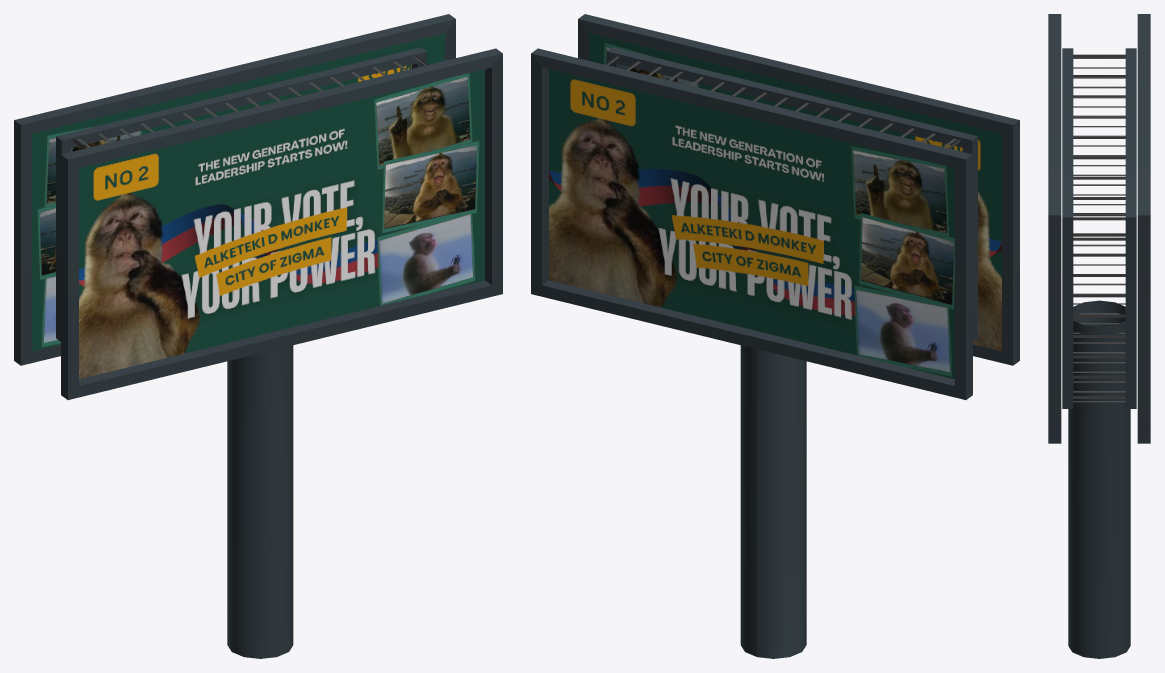
Rendered from Paslon2b.fbx.
3 views of the same model, side by side, from view 1: azimuth 30°, elevation 25°; view 2: azimuth 150°, elevation 25°; view 3: azimuth 270°, elevation 25° (orthographic). The views are drawn at different scales.
Visible parts, largest first — view 1: Cylinder.002; view 2: Cylinder.002; view 3: Cylinder.002.
Part boxes in pixels (left/top/right/bottom): Cylinder.002: left=14, top=14, right=502, bottom=658; Cylinder.002: left=531, top=14, right=1019, bottom=658; Cylinder.002: left=1048, top=14, right=1150, bottom=658.
Size of the model in its own units: 2753 by 3378 by 591.
2 materials, 2 textured.
